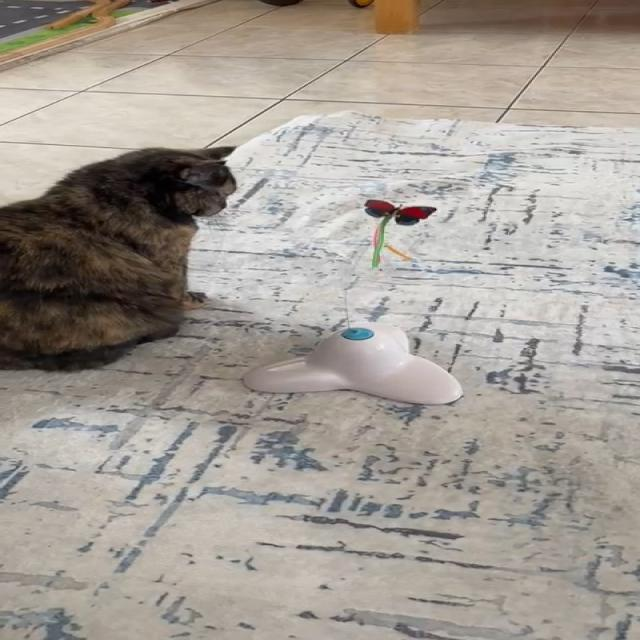authorized: (0, 144, 237, 372)
